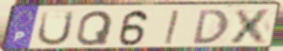6: (118, 9, 151, 47)
D: (192, 8, 231, 46)
I: (162, 9, 181, 46)
Q: (74, 9, 115, 47)
U: (35, 10, 77, 48)
X: (227, 7, 276, 45)
